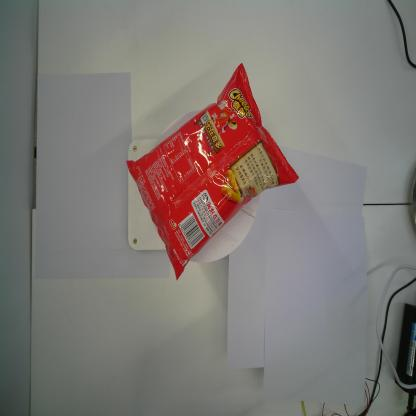Puffed Food: (126, 63, 300, 284)
